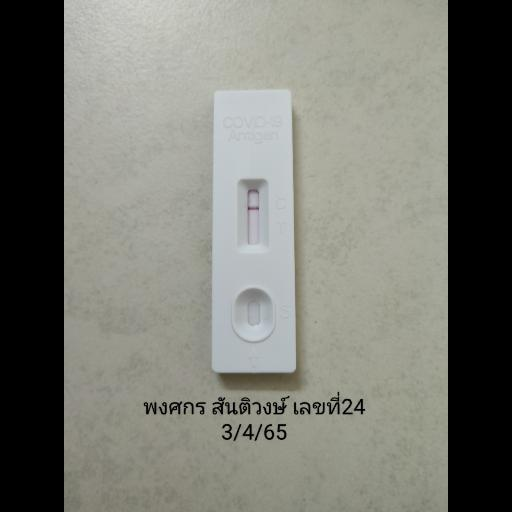Neg: (214, 91, 296, 375)
